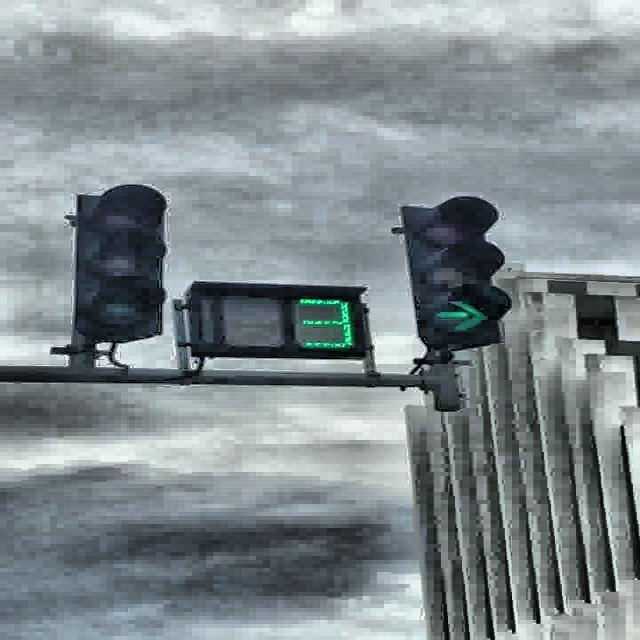green: (399, 194, 512, 348)
